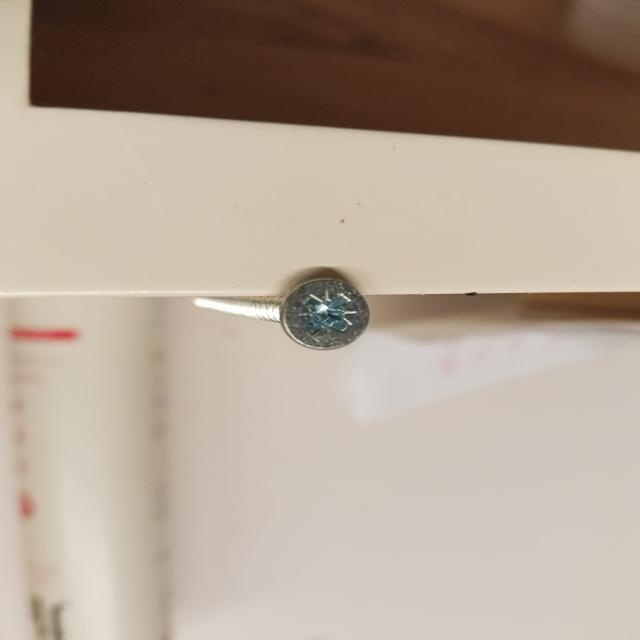pozidriv: (280, 277, 370, 352)
